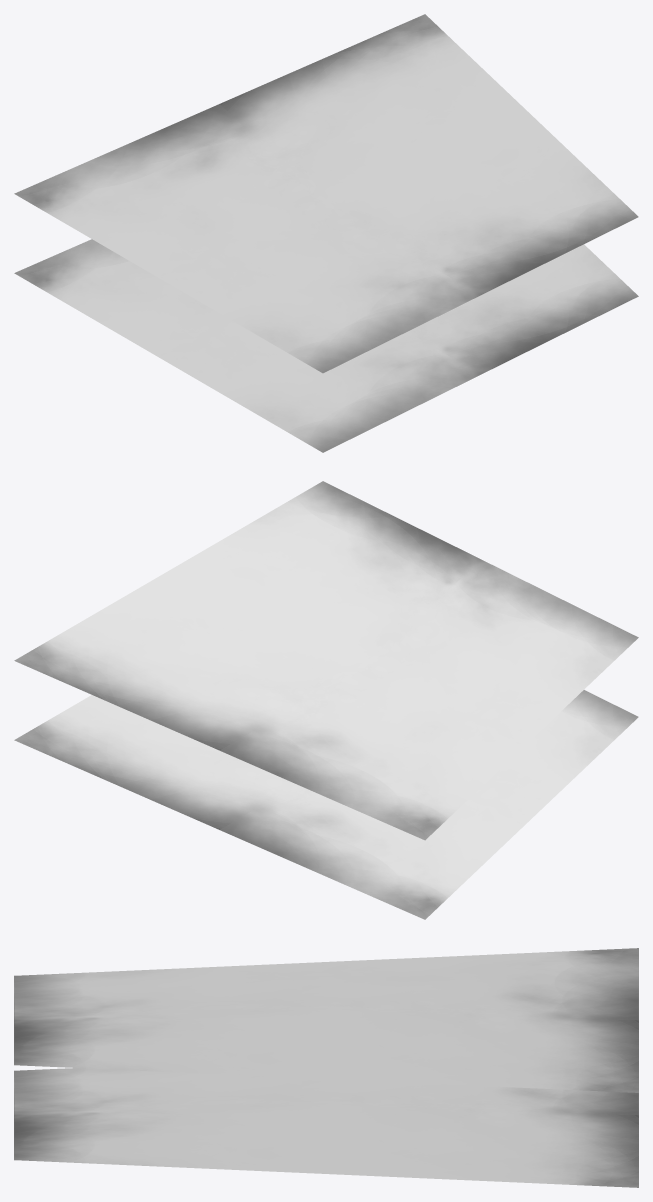
Rendered from CourseWinter_CurveFloor_7_8.fbx.
The picture shows the model from 3 angles, top to bottom: view 1: azimuth 30°, elevation 25°; view 2: azimuth 150°, elevation 25°; view 3: azimuth 270°, elevation 25°; orthographic projection. The views are drawn at different scales.
Visible parts, largest first — view 1: polySurface702; view 2: polySurface702; view 3: polySurface702.
Boxes of the visible parts, x1,y1,x2,y2 form: polySurface702: [14, 14, 638, 452]; polySurface702: [14, 481, 638, 919]; polySurface702: [14, 948, 638, 1187].
Bounding box in the file's own units: 5.42 × 2 × 5.97.
1 material, 1 textured.
